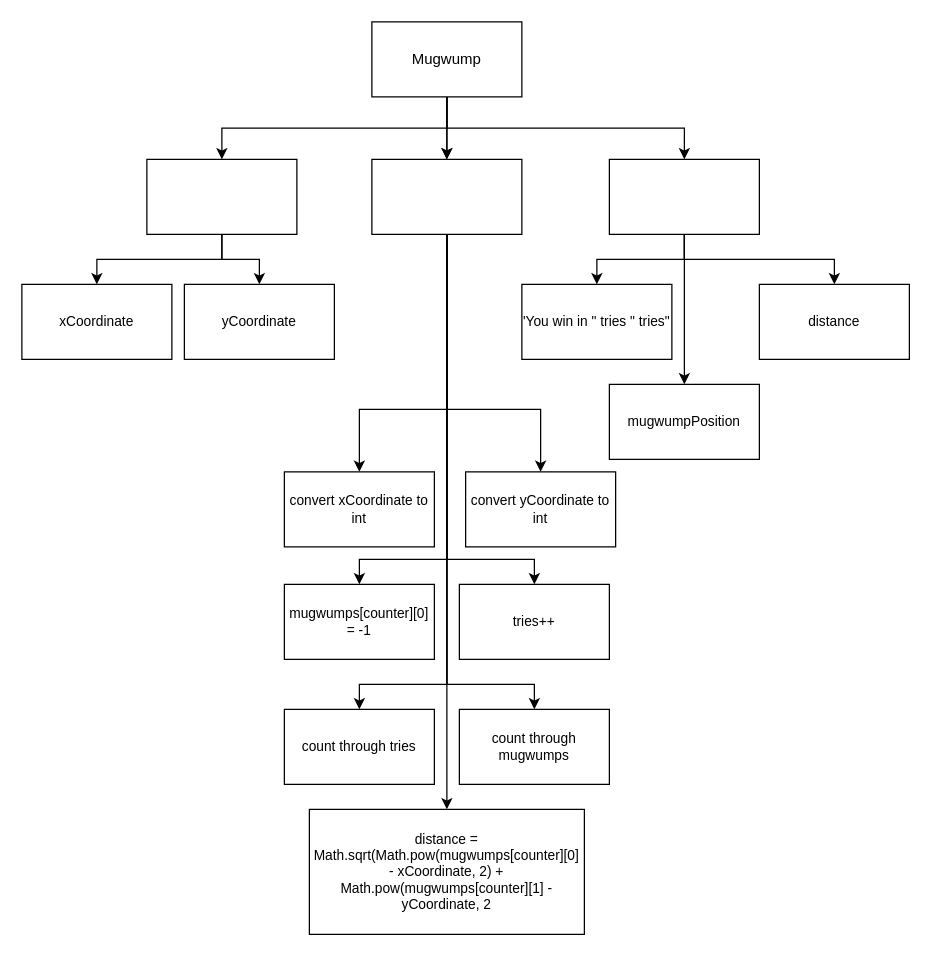
Some shapes in this 931 by 956 pixel diagram are drawn without their labels. Each missing label, with the centre of its shape:
"Input" goes at [221,196].
"Output" goes at [683,196].
"Process" goes at [446,196].
